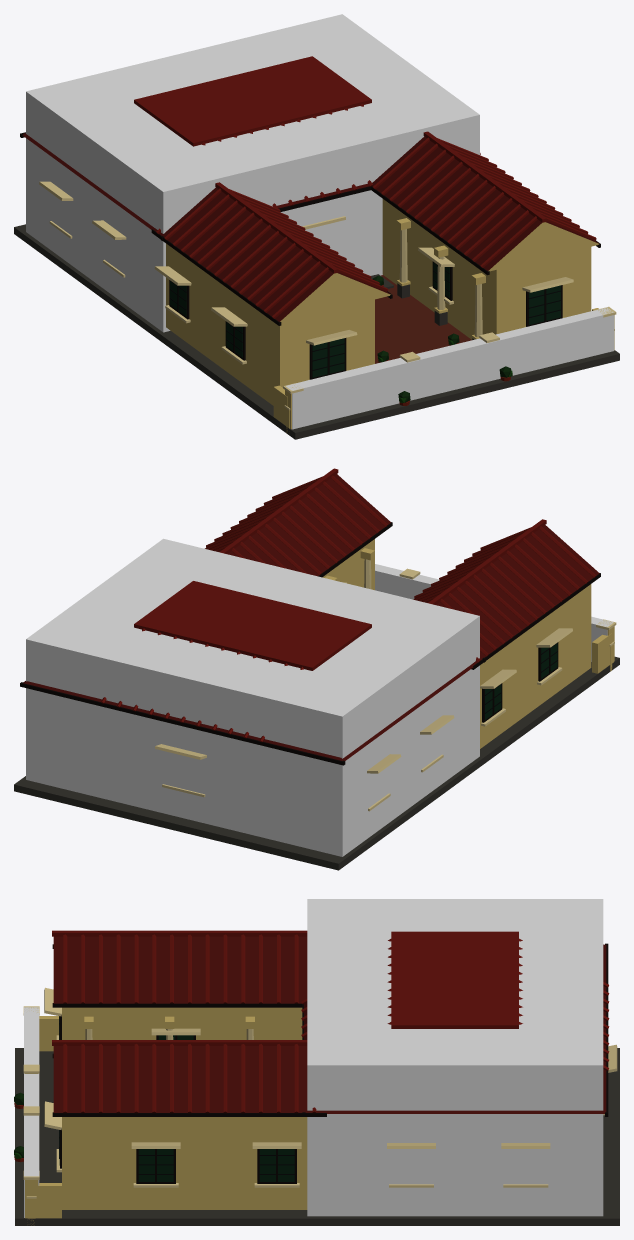
File: CHN_023_madras_patio.glb
3 renders of one model, top to bottom at view 1: azimuth 30°, elevation 25°; view 2: azimuth 150°, elevation 25°; view 3: azimuth 270°, elevation 25°, orthographic. The views are drawn at different scales.
Visible parts, largest first — view 1: LOD0, COL_Main, COL_Compound; view 2: COL_Main, LOD0, COL_Compound; view 3: LOD0, COL_Main, COL_Compound.
Part boxes in pixels (left/top/right/bottom): LOD0: left=14, top=56, right=619, bottom=439; COL_Main: left=26, top=14, right=479, bottom=332; COL_Compound: left=286, top=307, right=614, bottom=429; COL_Main: left=26, top=538, right=479, bottom=856; LOD0: left=14, top=468, right=619, bottom=870; COL_Compound: left=375, top=564, right=613, bottom=661; LOD0: left=14, top=930, right=619, bottom=1225; COL_Main: left=307, top=899, right=603, bottom=1216; COL_Compound: left=24, top=1007, right=39, bottom=1217.
Size of what is drawn, in the model's own units: 12.55 by 5.32 by 18.03.
